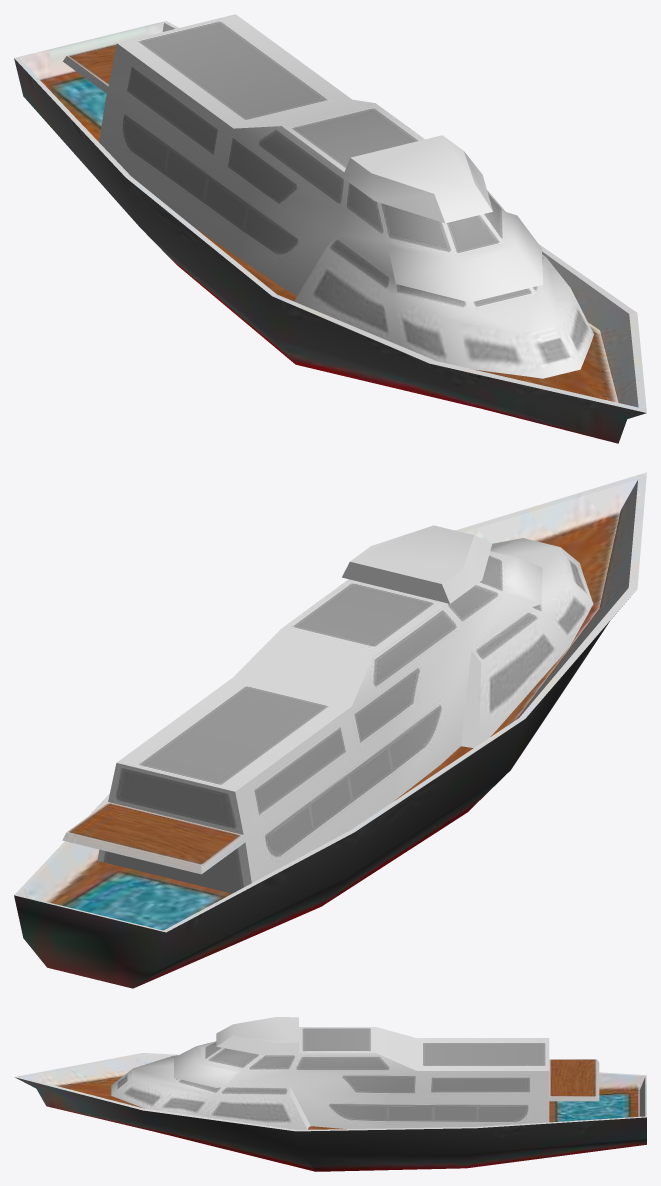
3 renders of one model, top to bottom at view 1: azimuth 30°, elevation 25°; view 2: azimuth 150°, elevation 25°; view 3: azimuth 270°, elevation 25°, orthographic. The views are drawn at different scales.
Visible parts, largest first — view 1: 5b21f0adcd18d02d045a5fb1.001; view 2: 5b21f0adcd18d02d045a5fb1.001; view 3: 5b21f0adcd18d02d045a5fb1.001.
Boxes of the visible parts, <box> form: 5b21f0adcd18d02d045a5fb1.001: <box>14,14,646,443</box>; 5b21f0adcd18d02d045a5fb1.001: <box>14,472,646,988</box>; 5b21f0adcd18d02d045a5fb1.001: <box>14,1017,646,1171</box>.
Size of the model in its own units: 9.48 by 7.46 by 36.13.
Materials: 1 (1 with a texture image).
